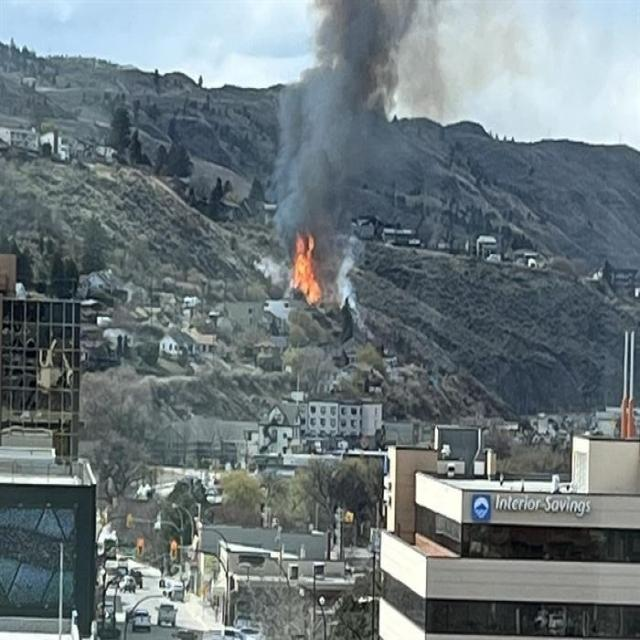Fire: (280, 226, 328, 318)
Smoke: (272, 0, 422, 246)
